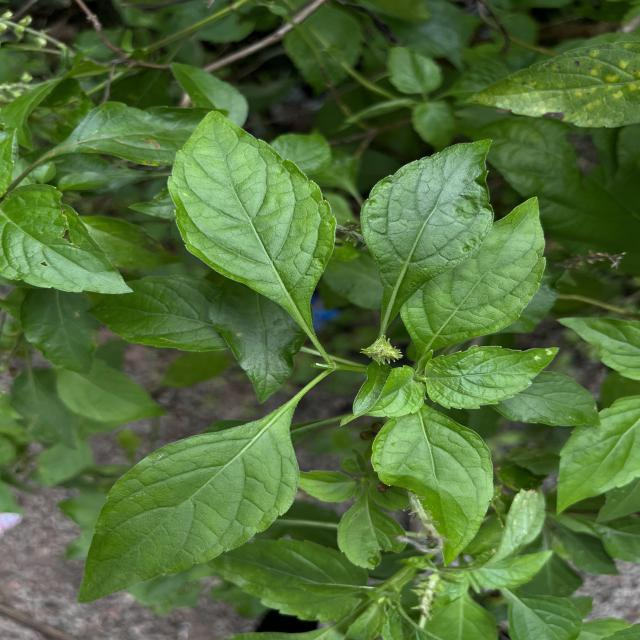Ocimum gratissimum: (72, 396, 304, 608), (164, 106, 341, 356), (358, 134, 498, 338), (397, 193, 550, 361), (366, 406, 496, 574), (0, 181, 134, 299)
